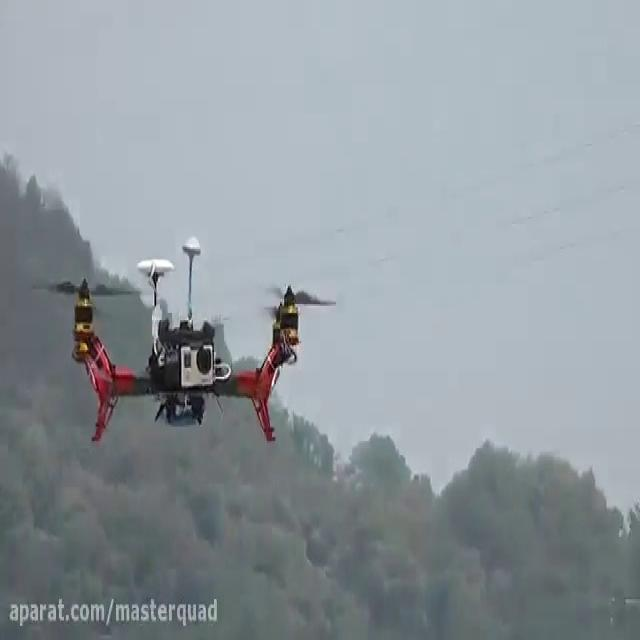drone: (29, 229, 340, 446)
